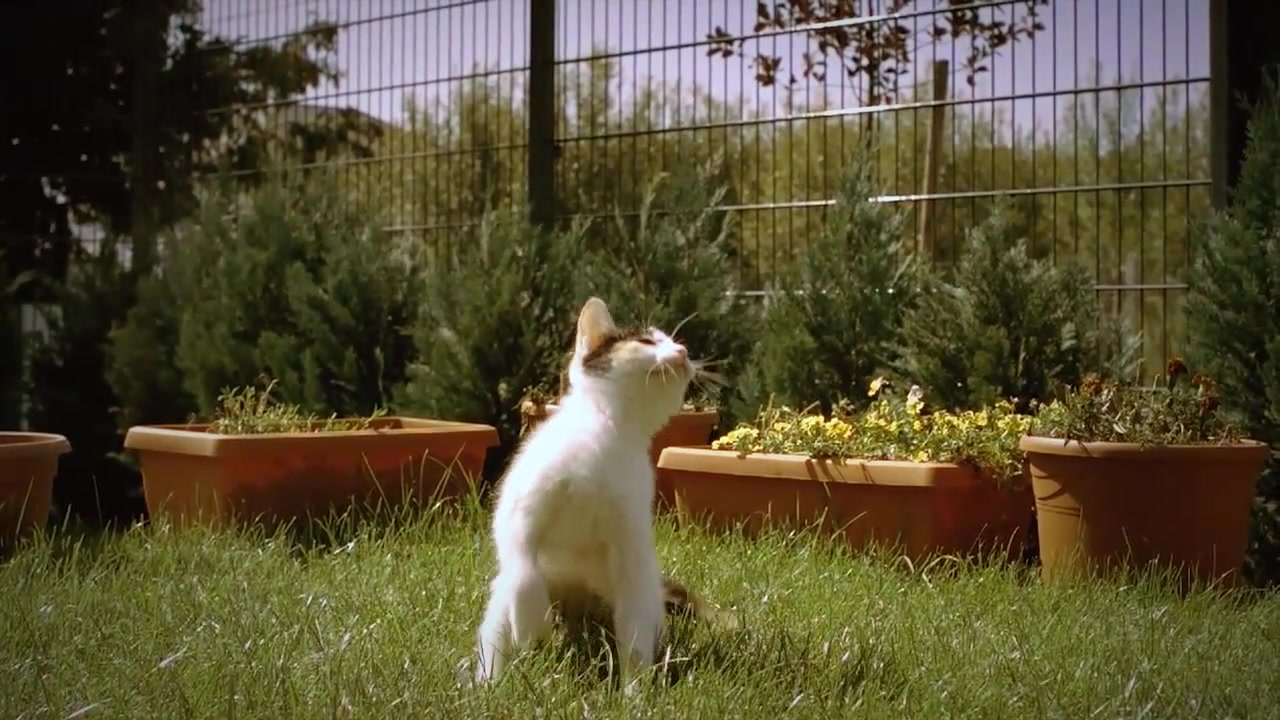cat: (476, 293, 712, 690)
